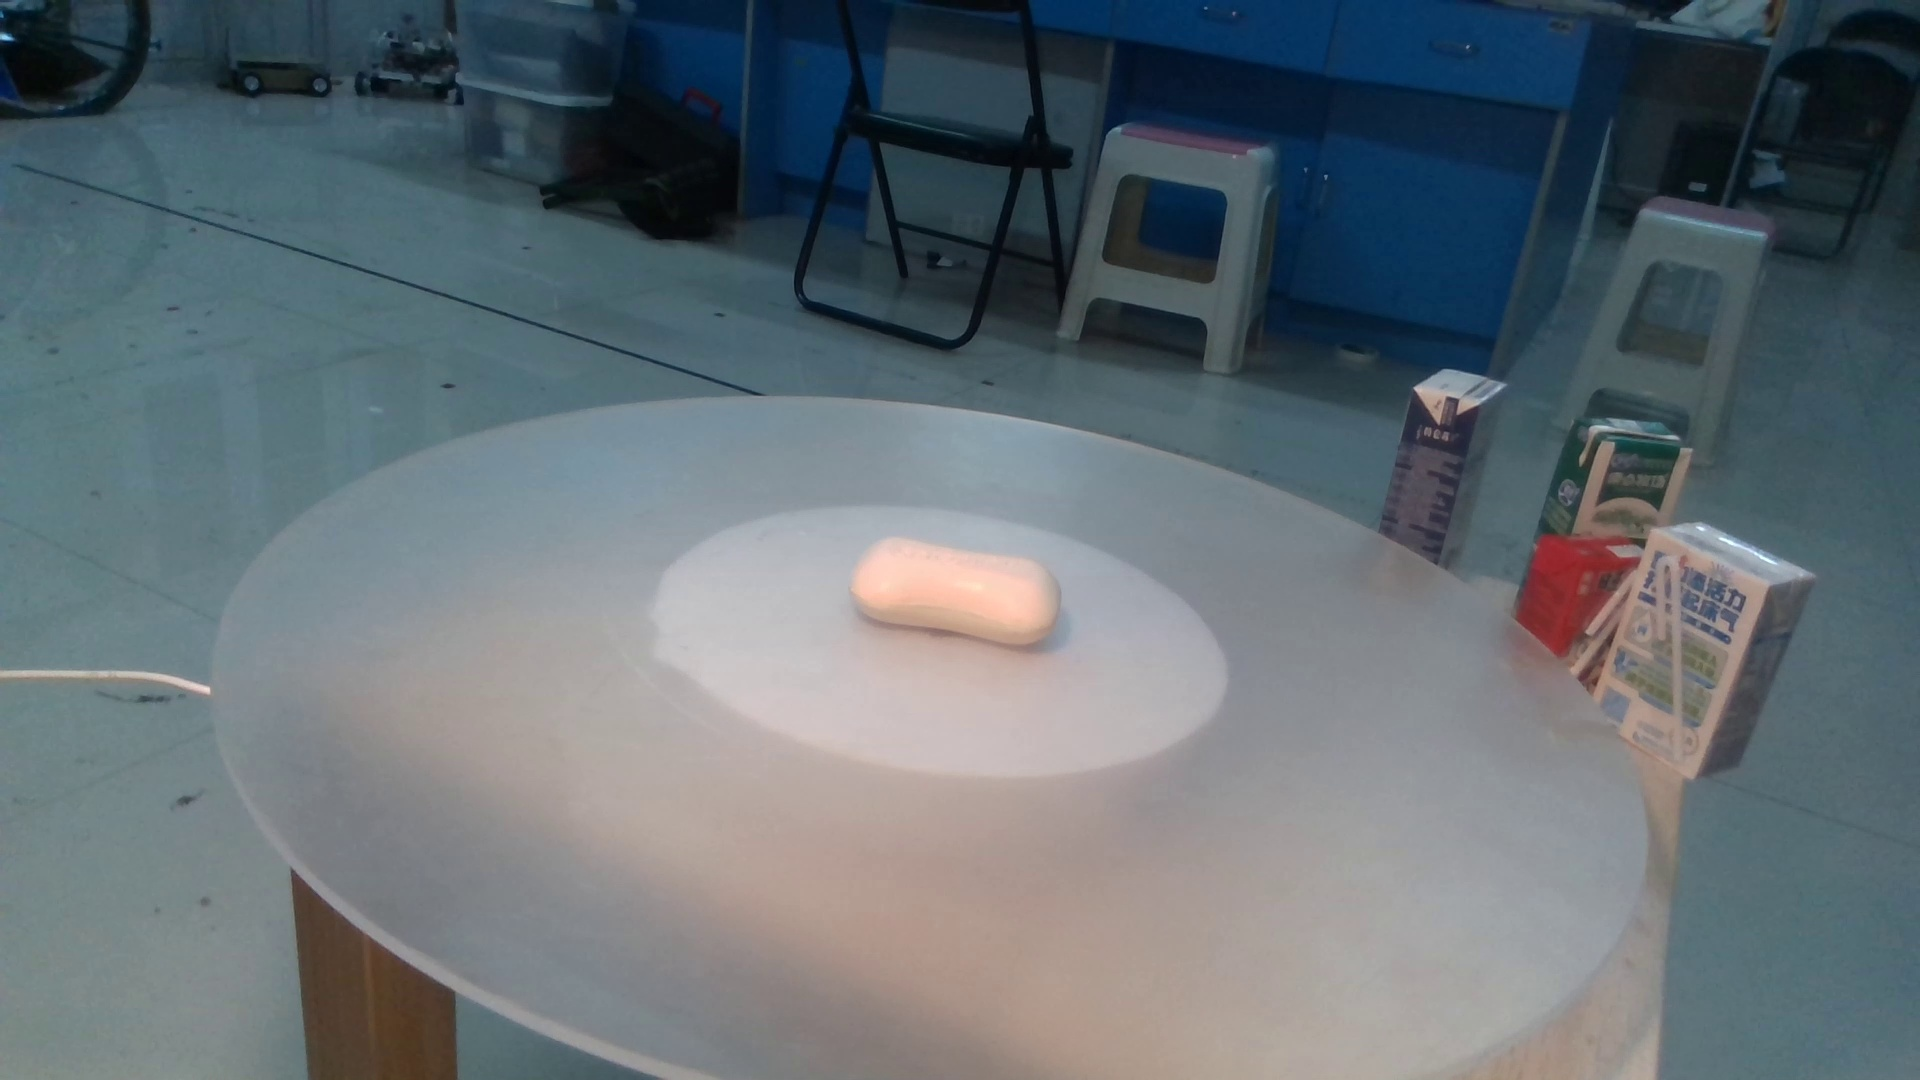CA003_1: (825, 496, 1106, 682)
